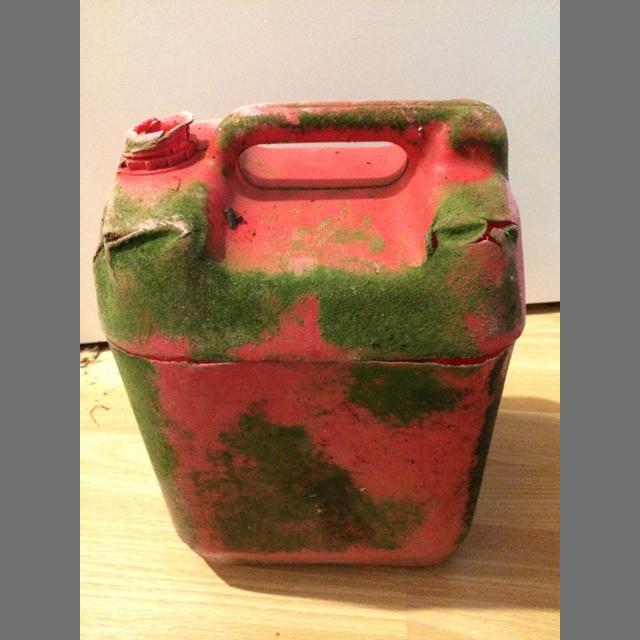litter: (92, 99, 526, 567)
